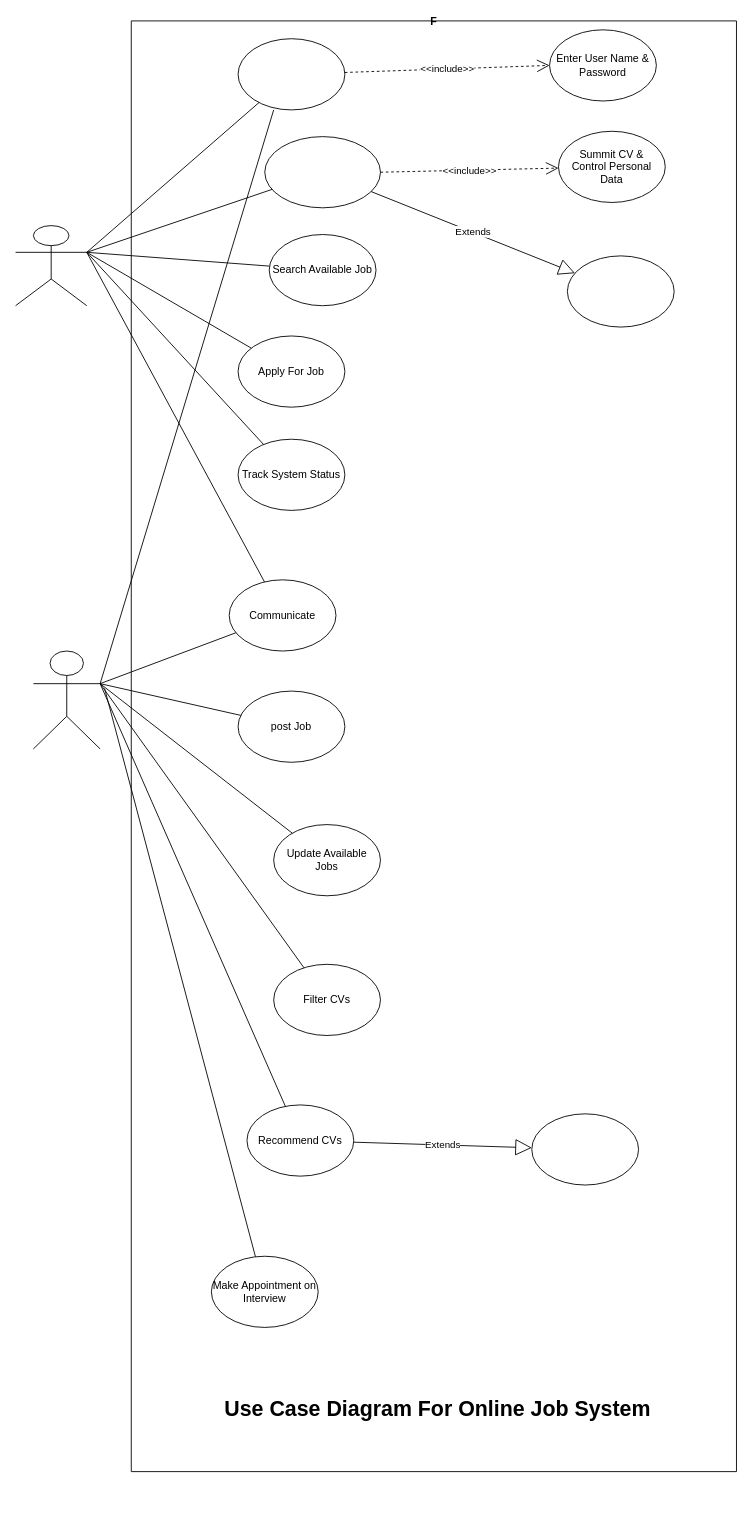
The diagram is 752 pixels wide and 1513 high, and some of its shapes have lost their labels. Each missing label, with the centre of its shape:
Employer: point (66, 699)
Job Seeker: point (51, 265)
Login: point (291, 74)
Manage Profile: point (322, 172)
Post & Share experiences: point (620, 291)
Review Applicant: point (585, 1149)
